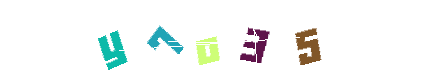3: (216, 0, 296, 80)
5: (267, 0, 347, 80)
7: (172, 0, 252, 80)
O: (177, 0, 257, 80)
Y: (92, 0, 172, 80)
